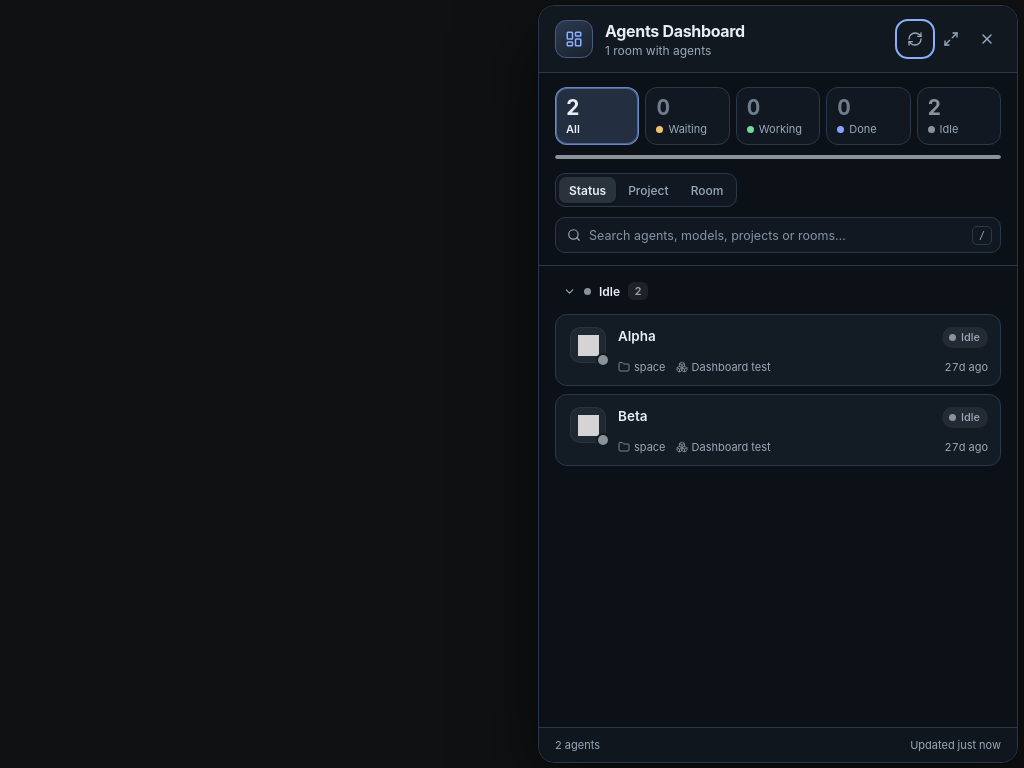
Test: agents dashboard › clears the search from its own button
Expected: the button with aria-label "Open Alpha in Dashboard test" is shown, [555,314,1001,386]
Type "Alpha" into the search field at {"x": 776, "y": 235}, box [589,218,964,252]
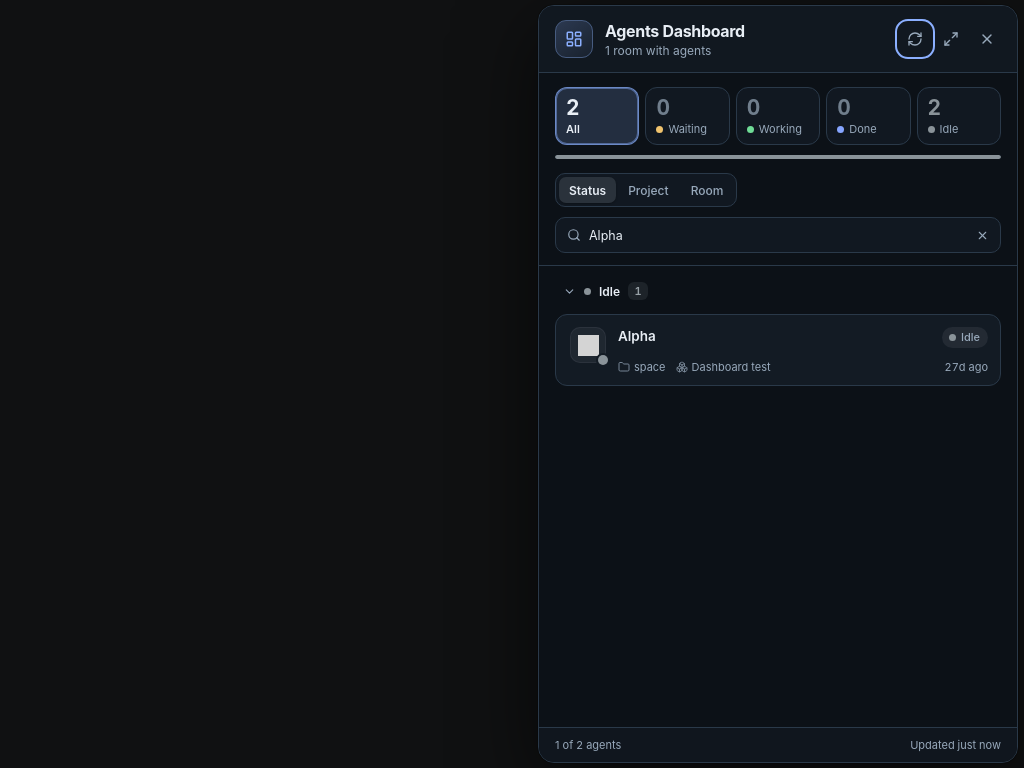
Result: the text "Open Beta" is gone
Click the button named "Clear search" at {"x": 982, "y": 235}, box [970,223,994,247]
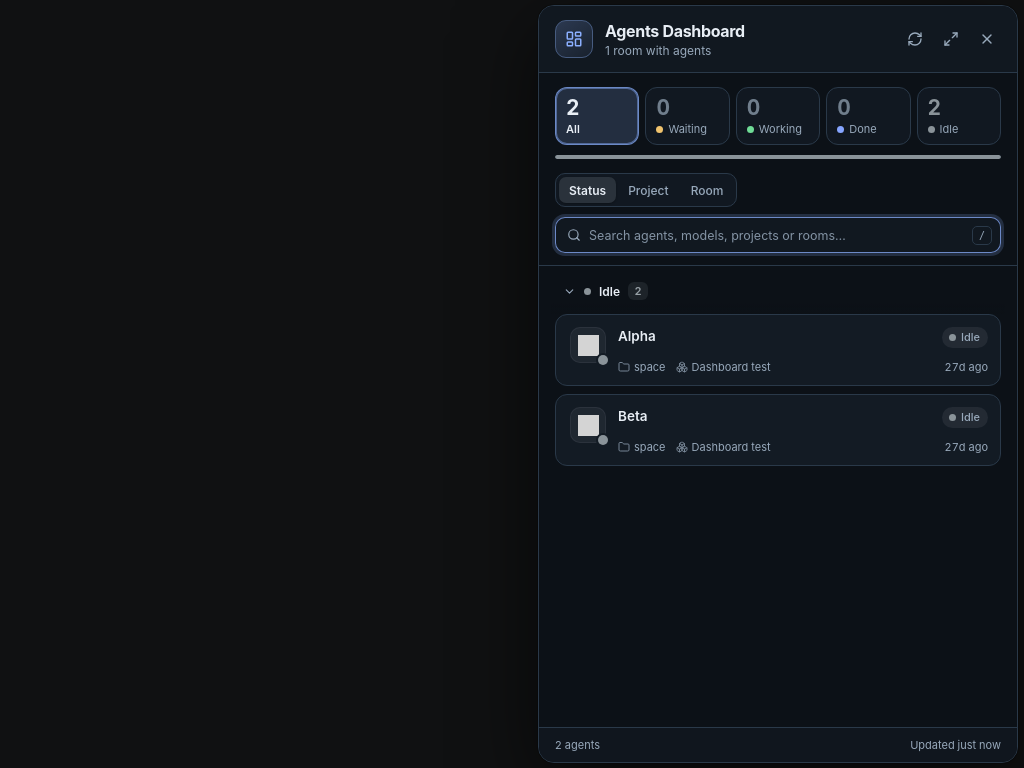
Result: the button with aria-label "Open Beta in Dashboard test" is shown at [555,394,1001,466]
Result: the search field is empty at [589,218,964,252]
